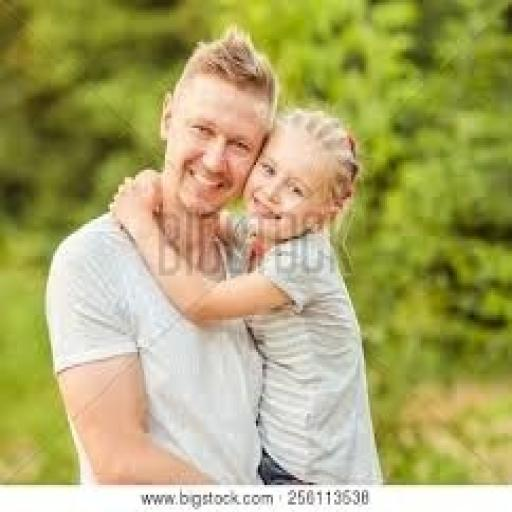hugging: (42, 29, 385, 485)
